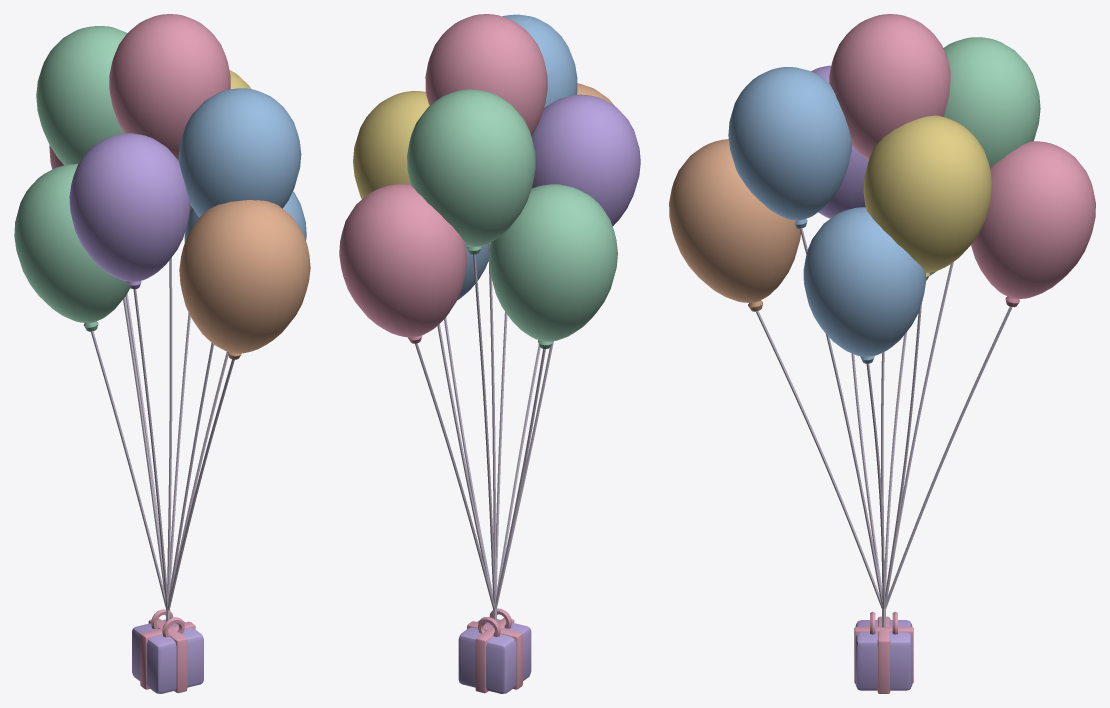
File: W4_BalloonBunch_lod0.fbx
3 renders of one model, left to right at view 1: azimuth 30°, elevation 25°; view 2: azimuth 150°, elevation 25°; view 3: azimuth 270°, elevation 25°, orthographic.
Parts seen in each view (by area): view 1: W4_BalloonBunch.001; view 2: W4_BalloonBunch.001; view 3: W4_BalloonBunch.001.
Part boxes in pixels (box(x1,y1,x2,y2)): W4_BalloonBunch.001: box(14, 14, 310, 693); W4_BalloonBunch.001: box(339, 14, 640, 693); W4_BalloonBunch.001: box(669, 14, 1095, 693).
Size of the model in its own units: 0.4132 by 1.04 by 0.6042.
